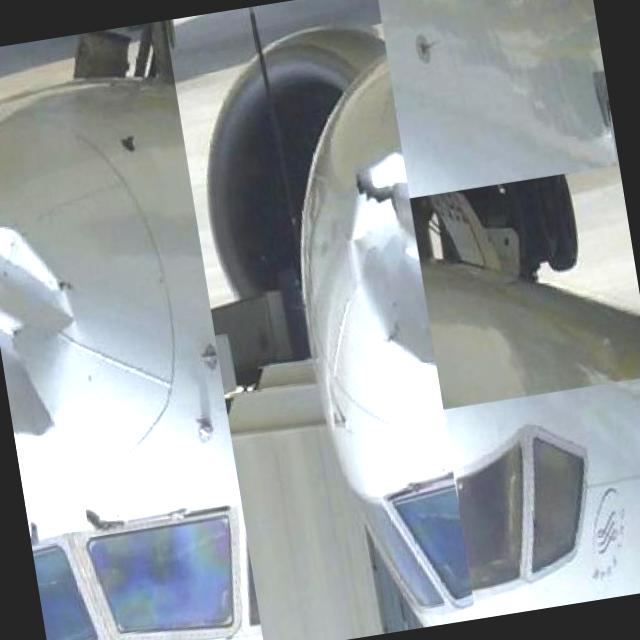dent: (334, 145, 436, 378), (0, 210, 93, 445)
